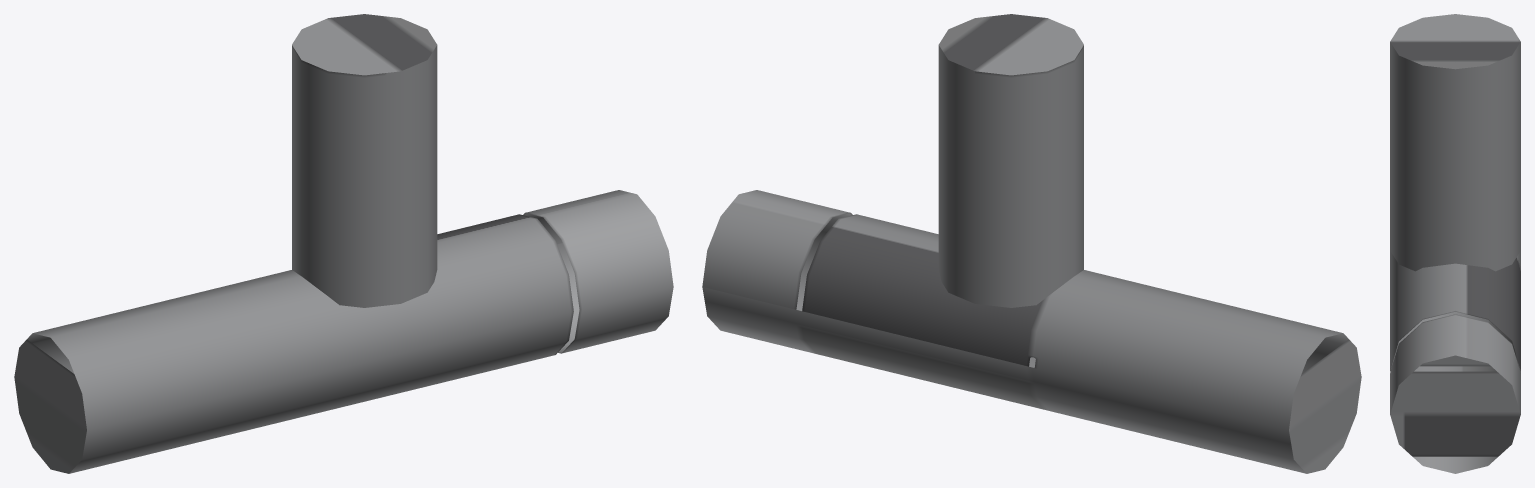
The picture shows the model from 3 angles, left to right: view 1: azimuth 30°, elevation 25°; view 2: azimuth 150°, elevation 25°; view 3: azimuth 270°, elevation 25°; orthographic projection. The views are drawn at different scales.
Size of the model in its own units: 1 by 0.5679 by 0.215.
